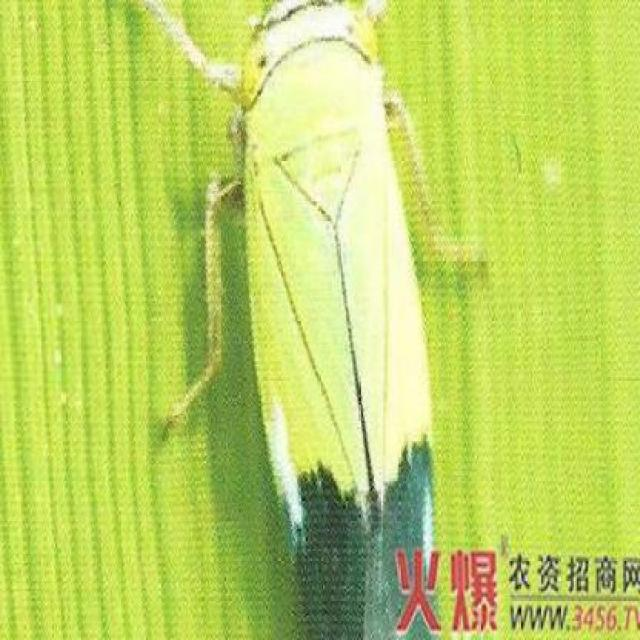green-leafhopper: (237, 0, 437, 640)
